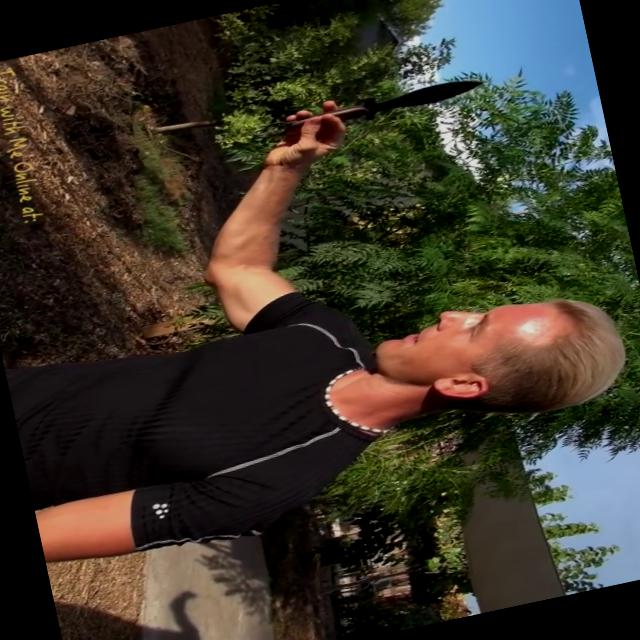knife: (260, 66, 500, 150)
